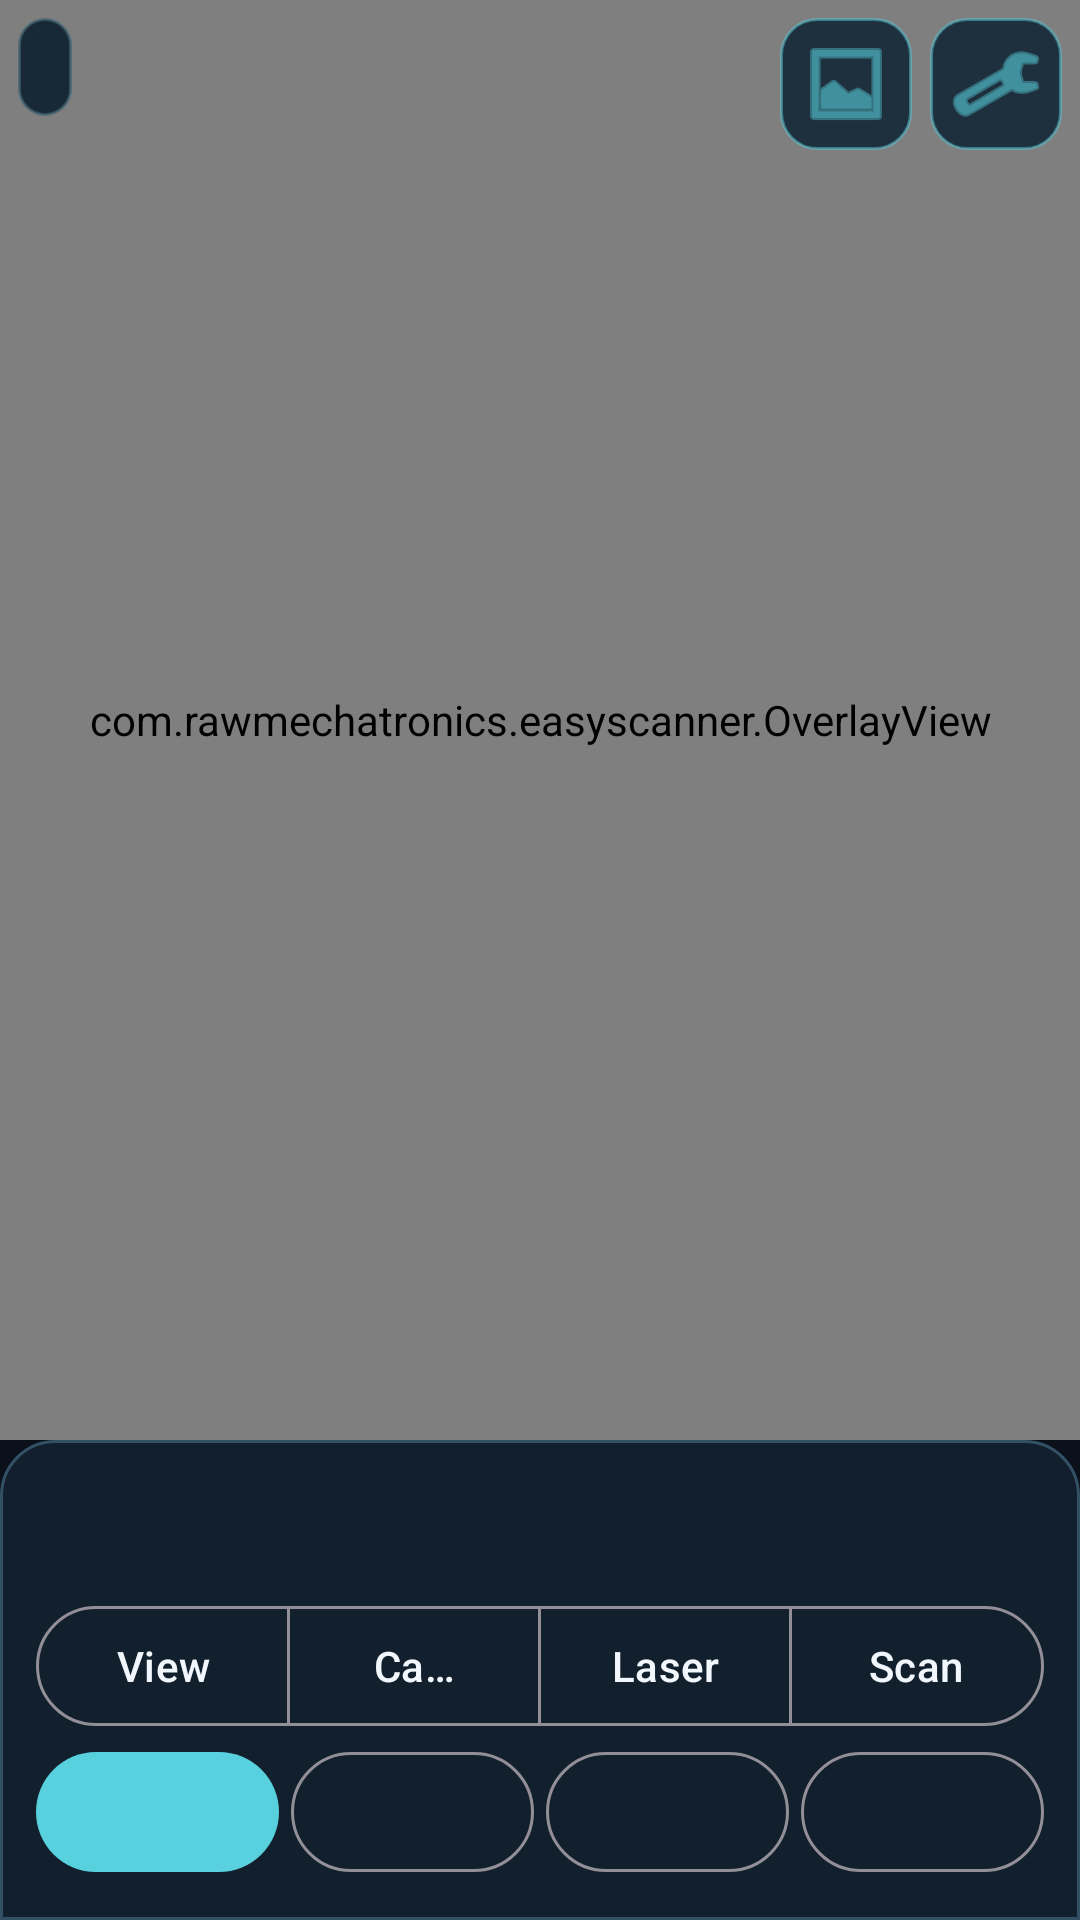

Icons on this 1080px×1920px Android screen, each with its box as {"x1": x1, "y1": y1, "x2": x2, "y2": y2}:
Scans: {"x1": 780, "y1": 18, "x2": 912, "y2": 150}
Settings: {"x1": 930, "y1": 18, "x2": 1062, "y2": 150}
